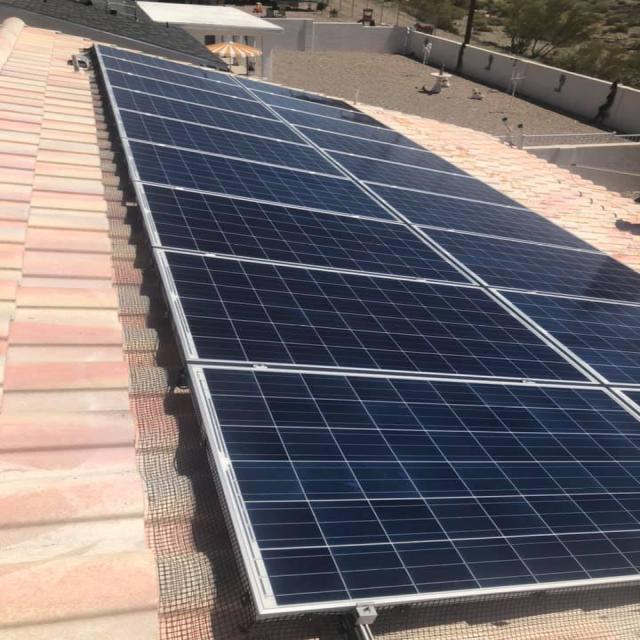clean-solar-panel: (93, 45, 638, 616)
